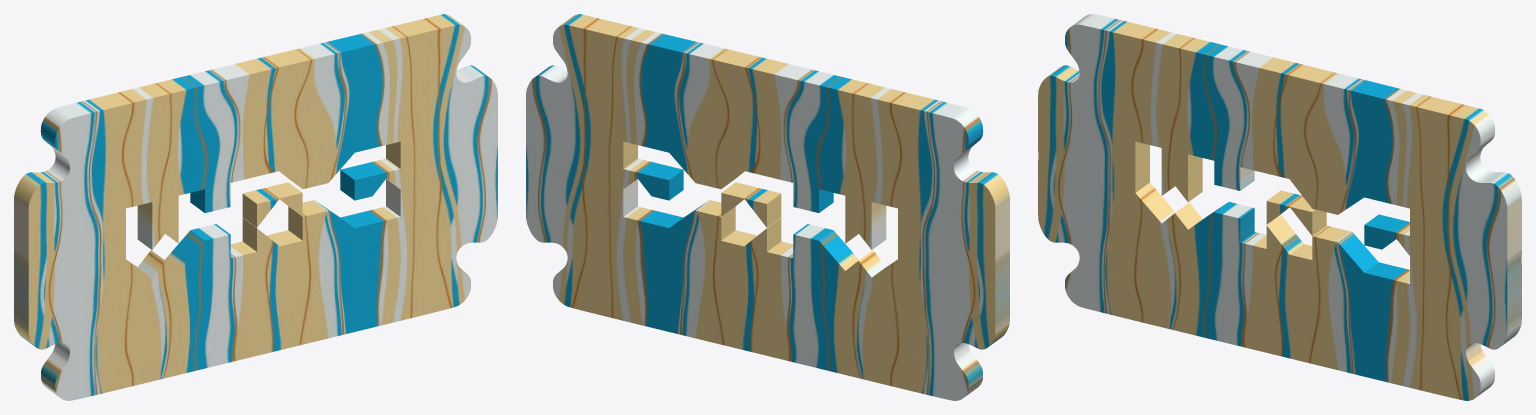
The model's file is plastic-stripes.glb.
The picture shows the model from 3 angles, left to right: view 1: azimuth 30°, elevation 25°; view 2: azimuth 150°, elevation 25°; view 3: azimuth 330°, elevation 25°; orthographic projection.
Parts seen in each view (by area): view 1: Razor; view 2: Razor; view 3: Razor.
Part boxes in pixels (x1=…): Razor: x1=14, y1=14, x2=497, y2=400; Razor: x1=526, y1=14, x2=1009, y2=400; Razor: x1=1038, y1=14, x2=1521, y2=400.
Bounding box in the file's own units: 0.5609 × 0.3234 × 0.03.
1 material, 1 textured.
